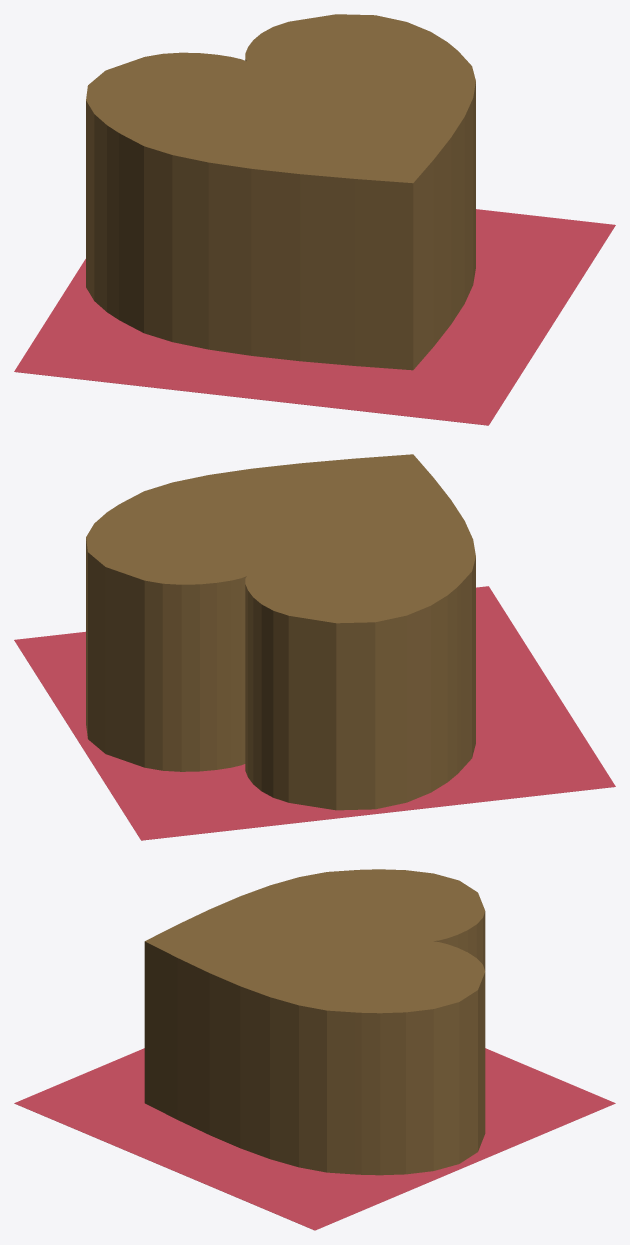
File: CCC.glb
The picture shows the model from 3 angles, top to bottom: view 1: azimuth 30°, elevation 25°; view 2: azimuth 150°, elevation 25°; view 3: azimuth 270°, elevation 25°; orthographic projection. The views are drawn at different scales.
Parts seen in each view (by area): view 1: Mesh_Mesh_head_geo.001_lambert2SG.001; view 2: Mesh_Mesh_head_geo.001_lambert2SG.001; view 3: Mesh_Mesh_head_geo.001_lambert2SG.001.
Boxes of the visible parts, x1,y1,x2,y2 form: Mesh_Mesh_head_geo.001_lambert2SG.001: (14, 14, 615, 425); Mesh_Mesh_head_geo.001_lambert2SG.001: (14, 454, 615, 840); Mesh_Mesh_head_geo.001_lambert2SG.001: (14, 869, 615, 1230).
Size of the model in its own units: 0.0354 by 0.0105 by 0.0354.
